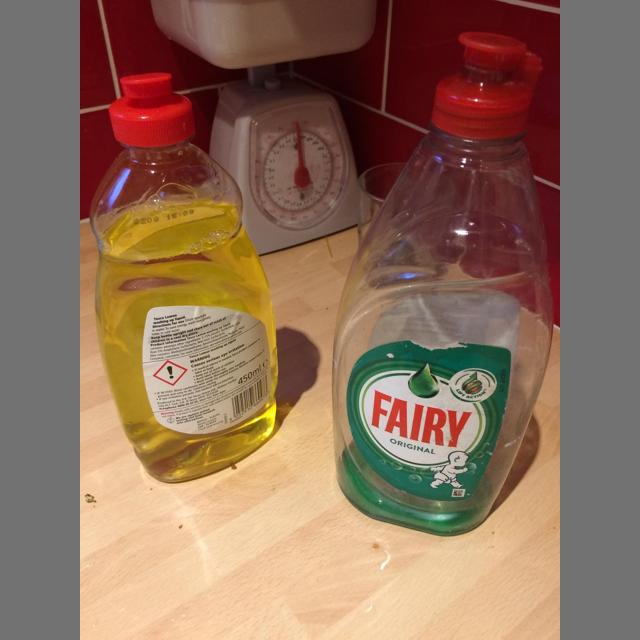litter: (332, 32, 554, 536), (90, 72, 278, 483), (357, 163, 455, 298)
